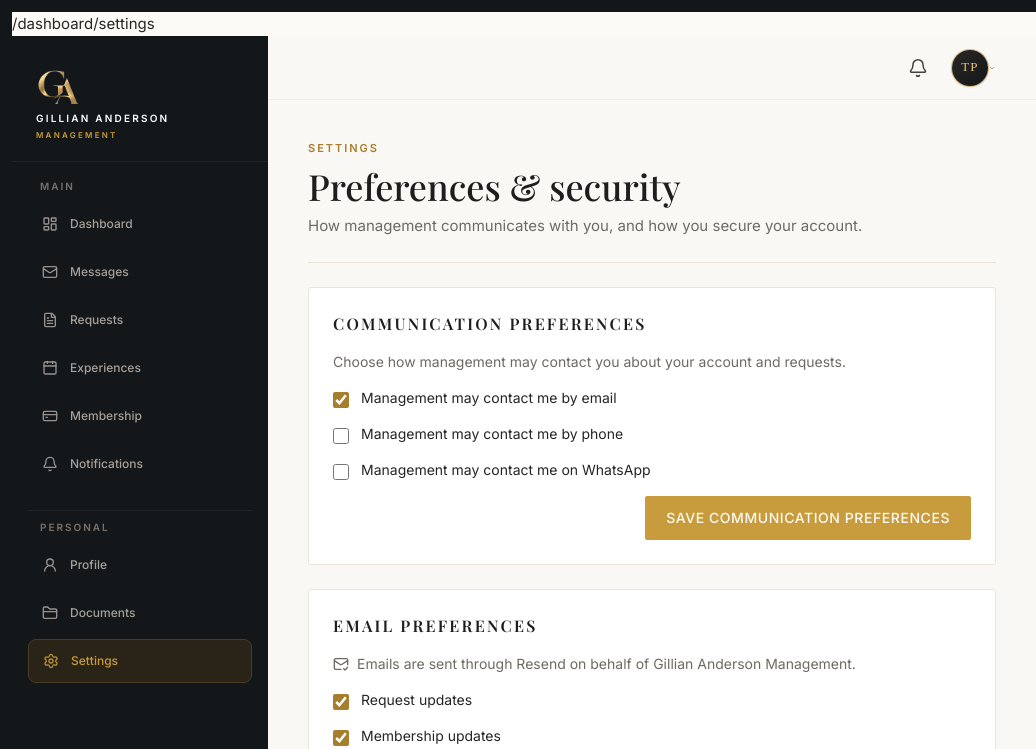
settings › saves communication preferences on the application record
The image size is (1036, 749).
Check: the heading "Communication preferences" is shown, box [333,312,647,336]
Click the checkbox labelled "Management may contact me by phone" at (341, 436), box [333,428,349,444]
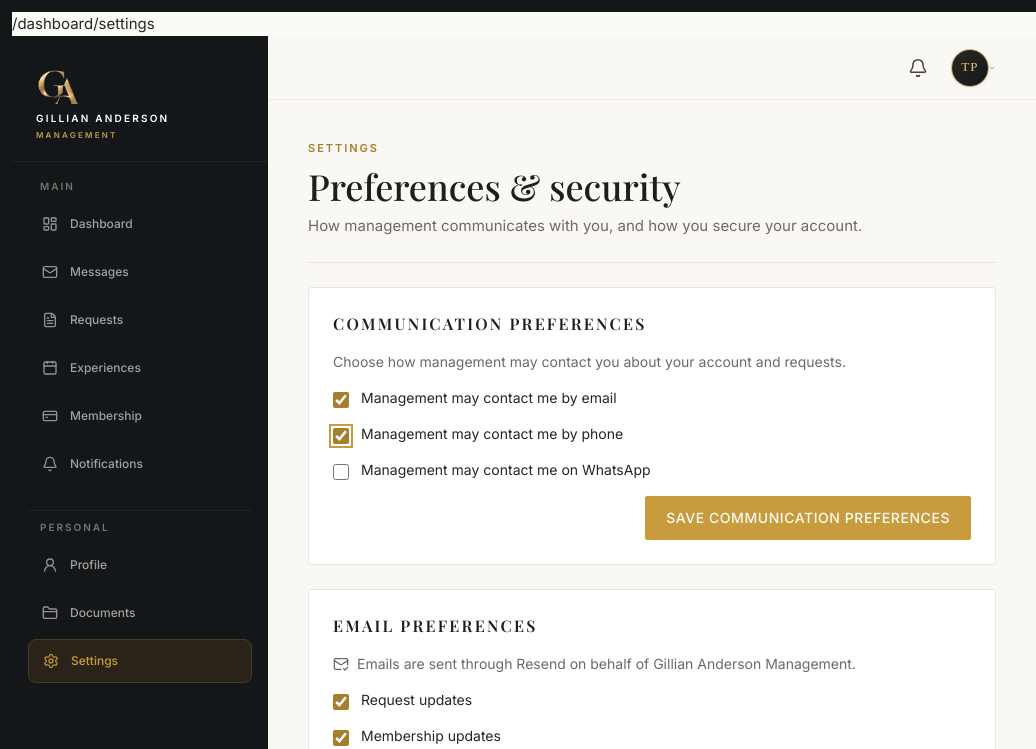
Click the button "Save communication preferences" at (808, 518), box [645,496,971,540]
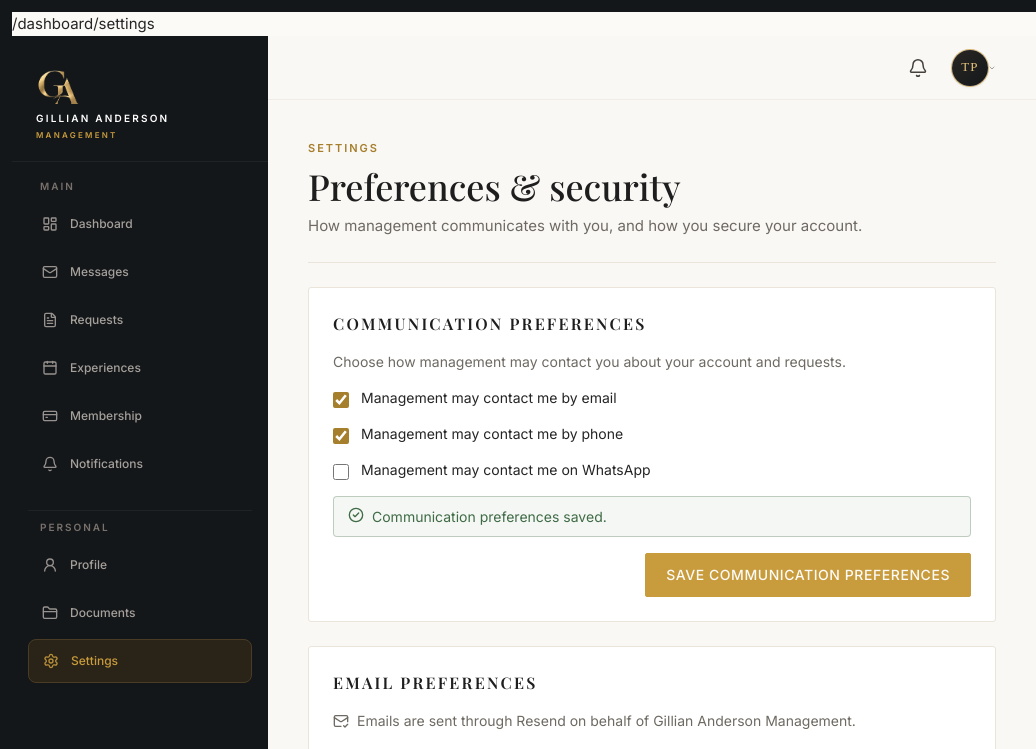
Check: the text "Communication preferences saved." is shown, box [372,507,607,526]
